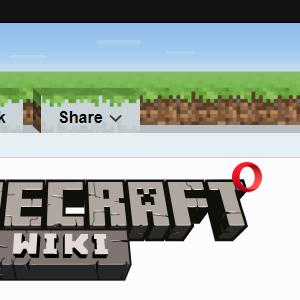opera: (232, 161, 262, 192)
